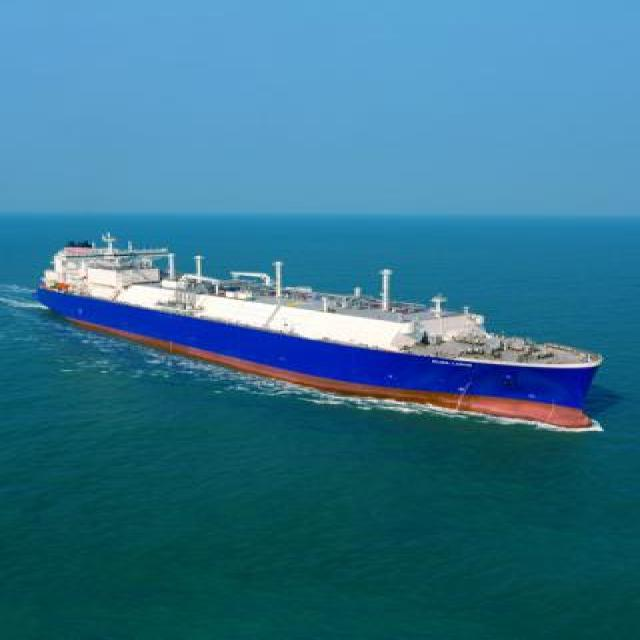boat: (18, 212, 625, 460)
